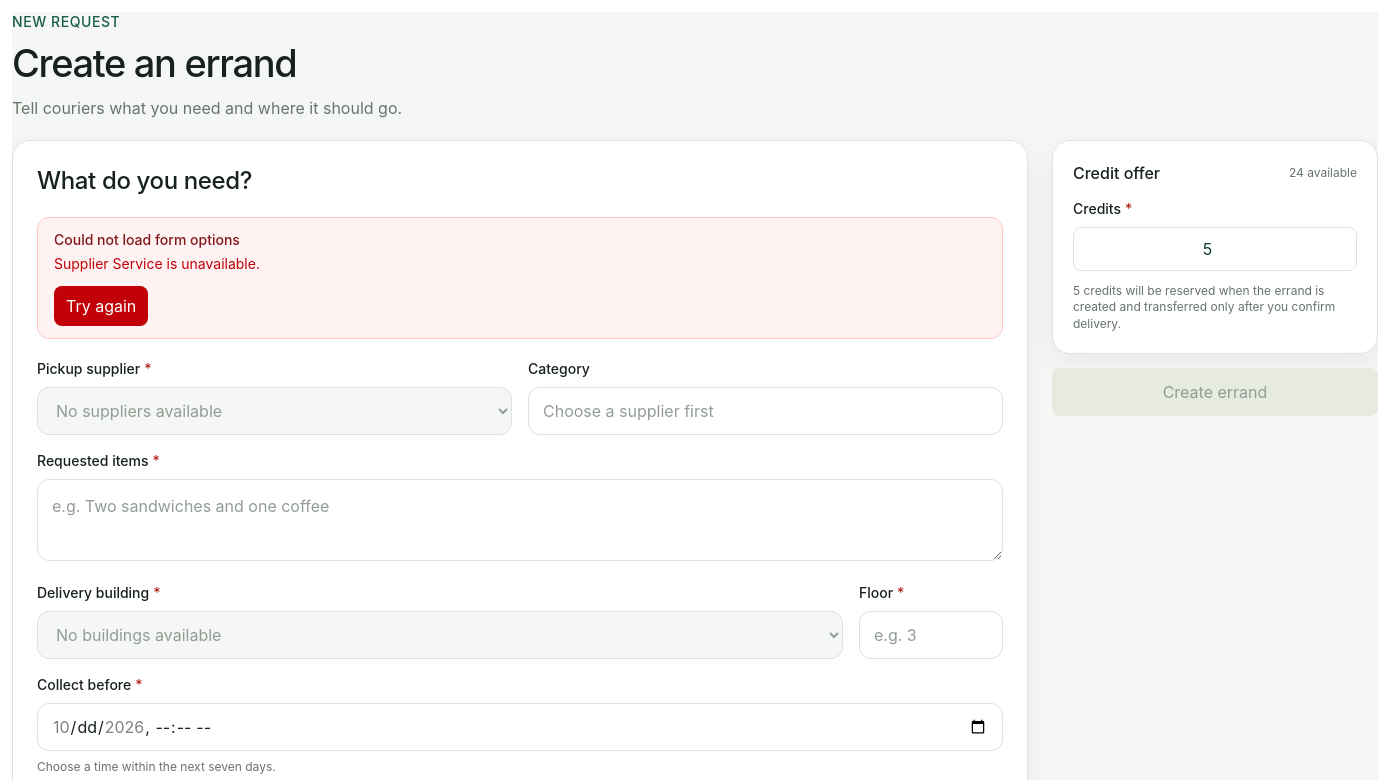
Test: CreateErrandPage › shows an error and retries loading the form options
The width and height of the screenshot is (1390, 780).
Check: the message shows "Supplier Service is unavailable.", box [54,254,260,272]
Click the button "Try again": (101, 306) [54,286,148,326]
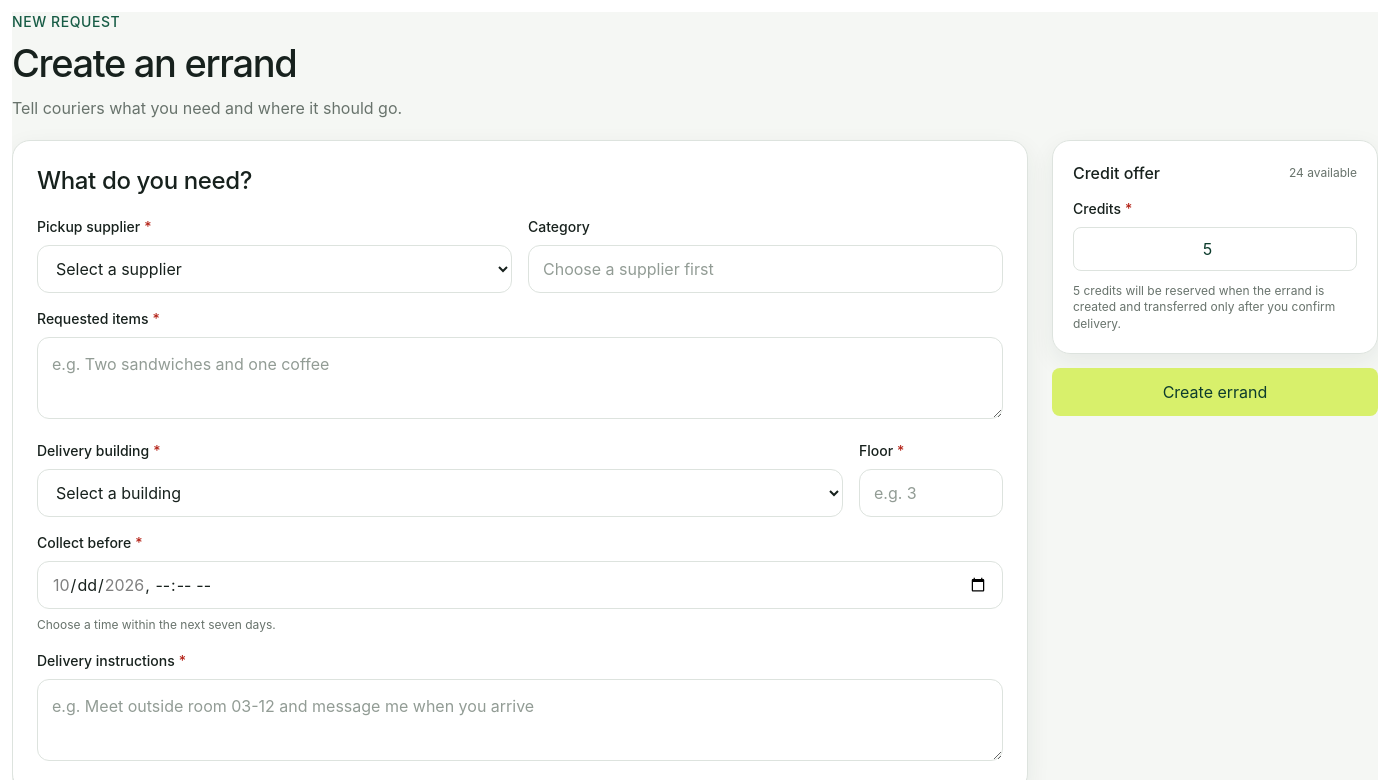
Check: the message "Could not load form options Supplier Service is unavailable. Try again" is gone
